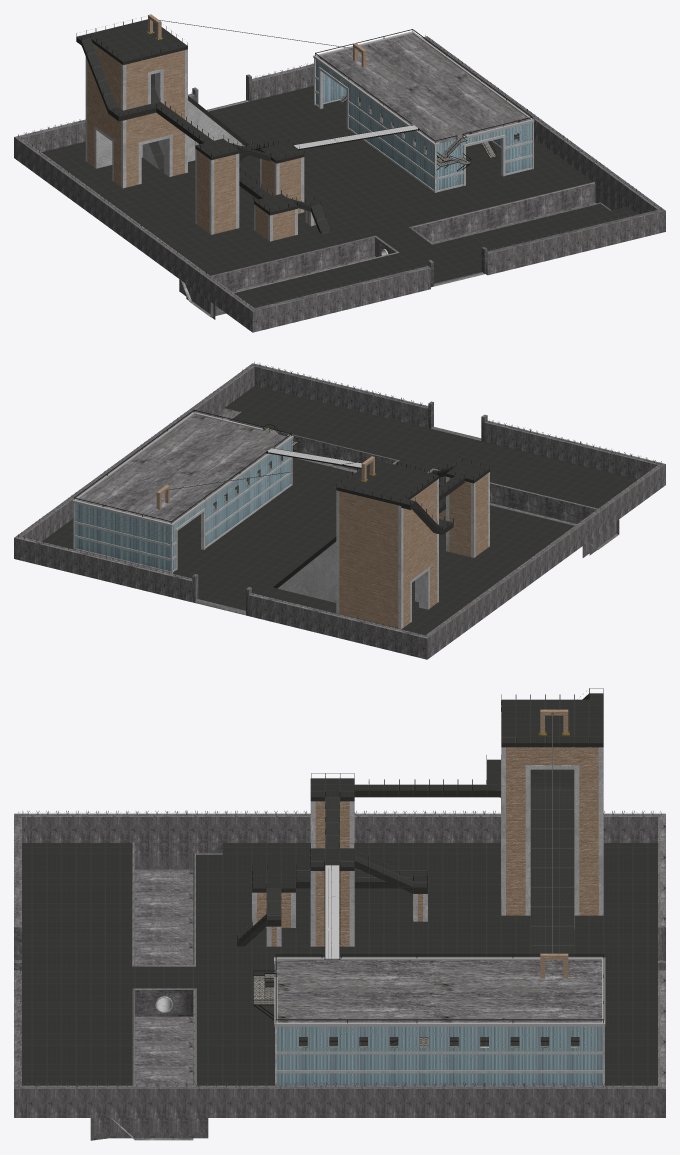
Rendered from MapMesh.fbx.
3 renders of one model, top to bottom at view 1: azimuth 30°, elevation 25°; view 2: azimuth 150°, elevation 25°; view 3: azimuth 270°, elevation 25°, orthographic. The views are drawn at different scales.
Parts seen in each view (by area): view 1: Plane.020, Plane.047, Beton.002, Plane.002, Plane.003, Beton.003, Plane.022, Plane.018; view 2: Plane.020, Beton.002, Plane.047, Plane.002, Plane.003, Beton.003, Plane.022, Cube.042; view 3: Plane.020, Beton.002, Plane.002, Plane.047, Plane.018, Beton.003, Plane.022, Plane.003, Cube.042, Cube.022.
Boxes of the visible parts, x1,y1,x2,y2 form: Plane.020: [42, 86, 637, 307]; Plane.047: [76, 19, 330, 241]; Beton.002: [14, 36, 665, 332]; Plane.002: [313, 31, 534, 192]; Plane.003: [210, 183, 611, 317]; Beton.003: [18, 35, 661, 309]; Plane.022: [315, 29, 532, 166]; Plane.018: [189, 202, 596, 316]; Plane.020: [42, 386, 637, 635]; Beton.002: [14, 363, 665, 659]; Plane.047: [273, 460, 489, 629]; Plane.002: [72, 412, 293, 573]; Plane.003: [229, 420, 619, 534]; Beton.003: [18, 362, 661, 636]; Plane.022: [74, 409, 298, 523]; Cube.042: [156, 456, 374, 509]; Plane.020: [22, 842, 657, 1139]; Beton.002: [14, 813, 665, 1140]; Plane.002: [274, 957, 605, 1085]; Plane.047: [237, 693, 603, 957]; Plane.018: [134, 869, 193, 1140]; Beton.003: [18, 810, 661, 1087]; Plane.022: [253, 954, 604, 1023]; Plane.003: [134, 990, 193, 1016]; Cube.042: [540, 709, 568, 978]; Cube.022: [252, 688, 603, 887].
Bounding box in the file's own units: 222 × 84.74 × 222.
